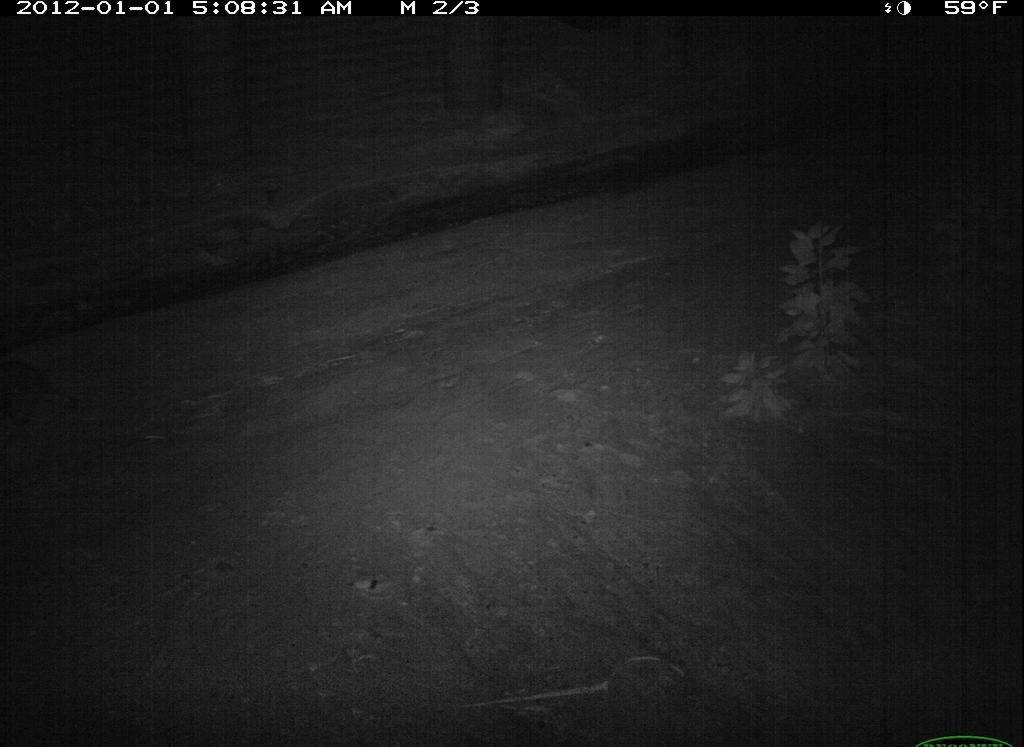raccoon: (1, 358, 92, 442)
